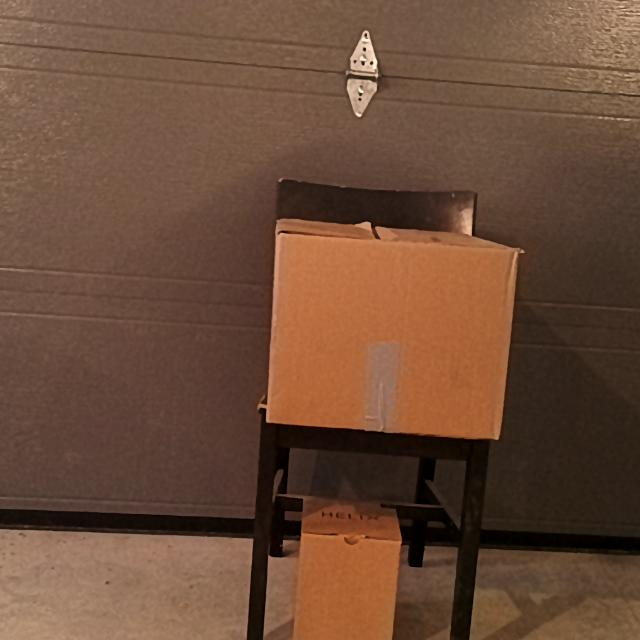box: (278, 242, 514, 440), (300, 536, 398, 640)
